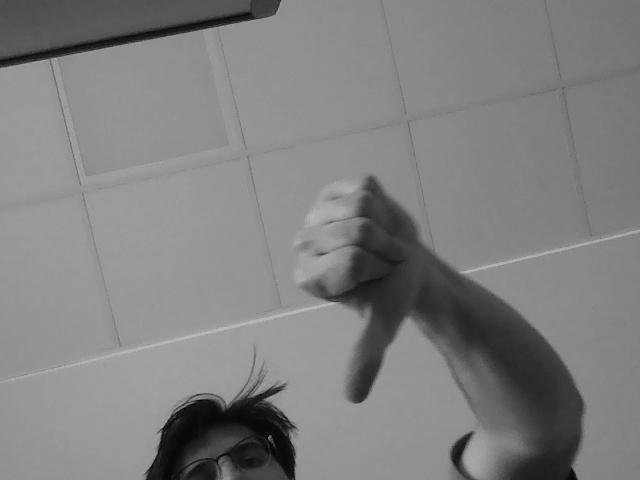bad: (289, 159, 435, 405)
